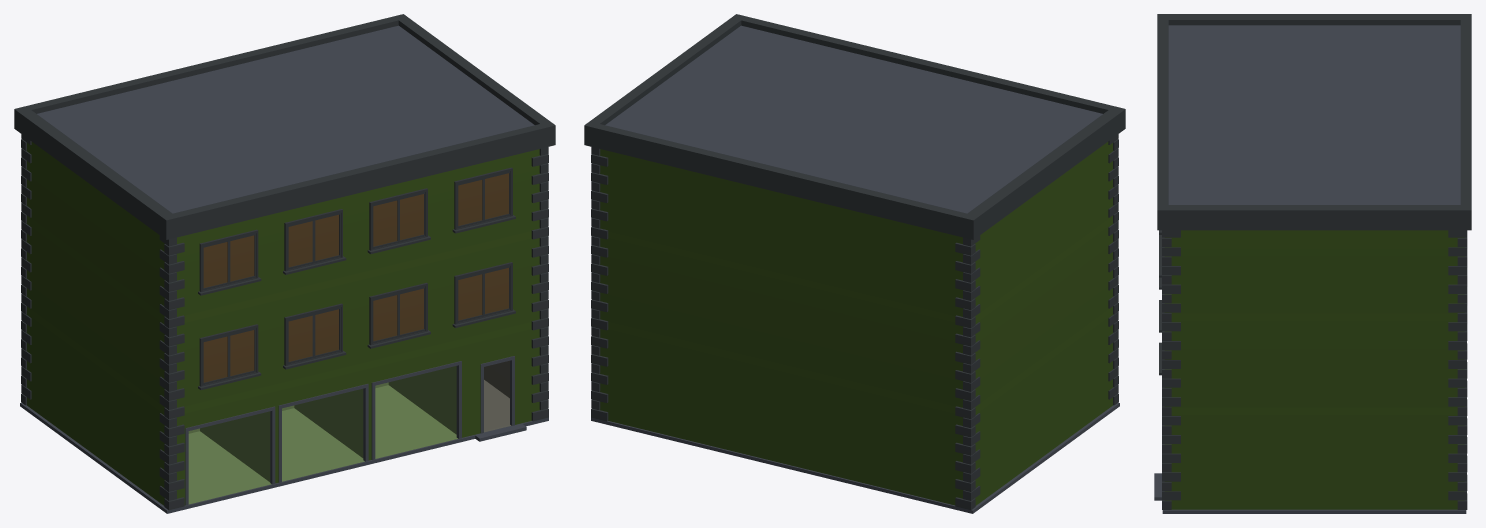
File: House_27.fbx
The picture shows the model from 3 angles, left to right: view 1: azimuth 30°, elevation 25°; view 2: azimuth 150°, elevation 25°; view 3: azimuth 270°, elevation 25°; orthographic projection. The views are drawn at different scales.
Visible parts, largest first — view 1: House_27; view 2: House_27; view 3: House_27.
Part boxes in pixels (x1=…): House_27: x1=14, y1=14, x2=555, y2=513; House_27: x1=584, y1=14, x2=1125, y2=513; House_27: x1=1154, y1=14, x2=1471, y2=513.
Bounding box in the file's own units: 12.38 × 9 × 8.47.
